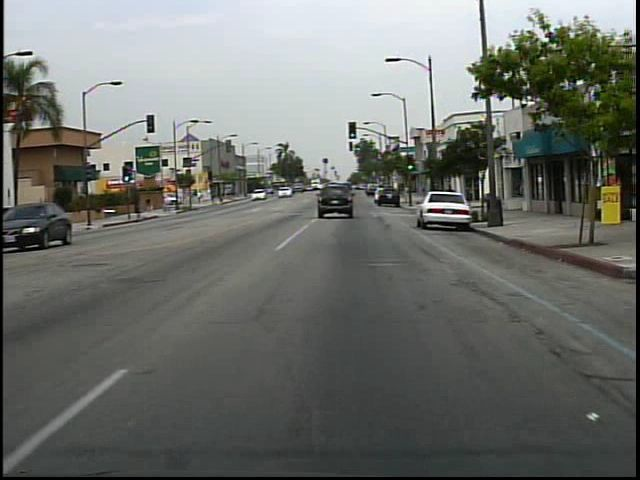person: (439, 180, 460, 217), (141, 191, 160, 220), (196, 188, 206, 207)
